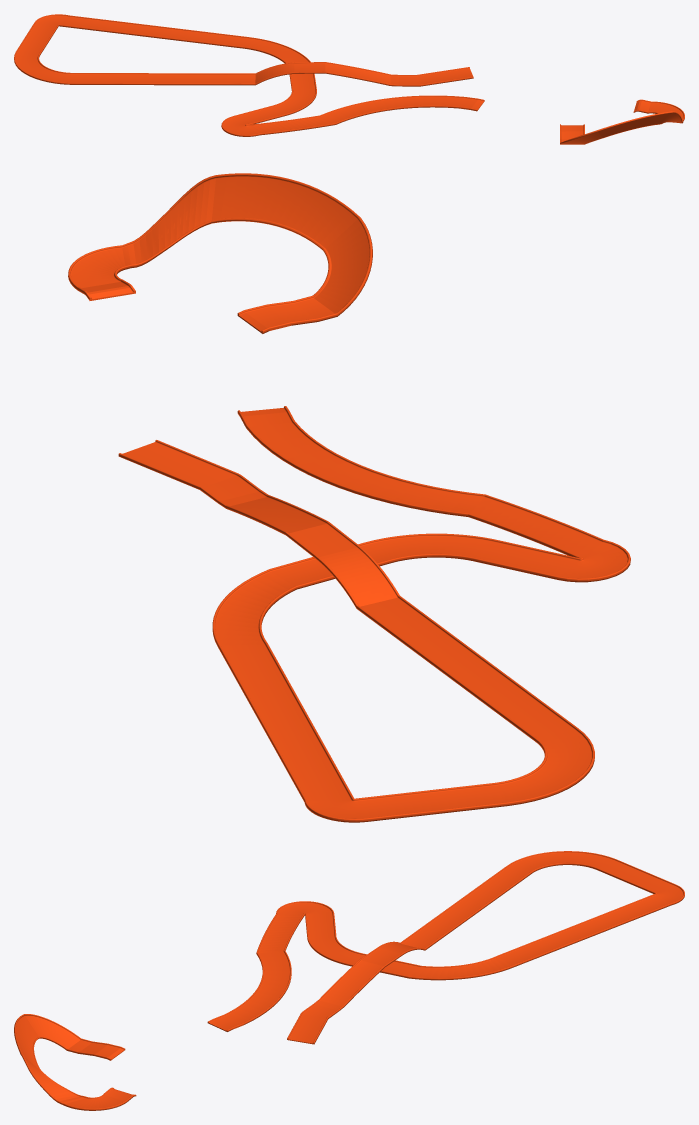
Rendered from hotwheels_test.fbx.
3 views of the same model, one above another, from view 1: azimuth 30°, elevation 25°; view 2: azimuth 150°, elevation 25°; view 3: azimuth 270°, elevation 25° (orthographic). The views are drawn at different scales.
Visible parts, largest first — view 1: Cube, Cube.008; view 2: Cube, Cube.008; view 3: Cube, Cube.008.
Part boxes in pixels (box(x1,y1,x2,y2)): Cube: box(14, 14, 484, 136); Cube.008: box(560, 99, 684, 144); Cube: box(118, 406, 630, 822); Cube.008: box(68, 173, 372, 333); Cube: box(207, 851, 684, 1044); Cube.008: box(14, 1014, 136, 1110).
Size of the model in its own units: 3476 by 259 by 3812.
